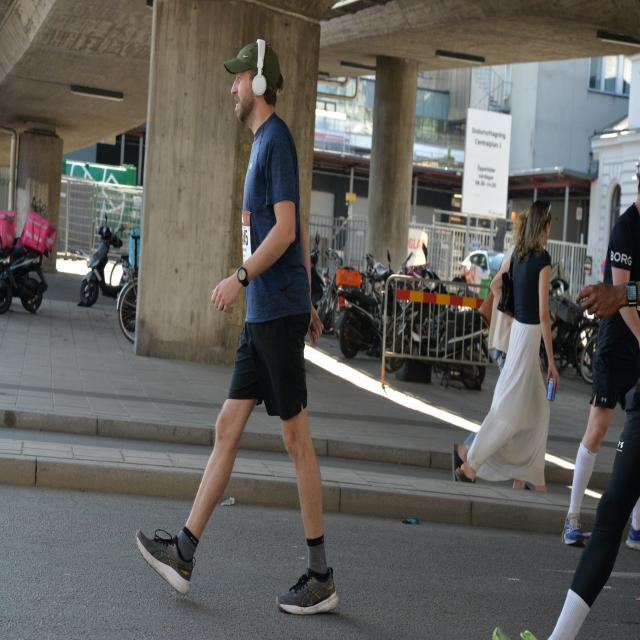runner-detect: (154, 39, 368, 632)
